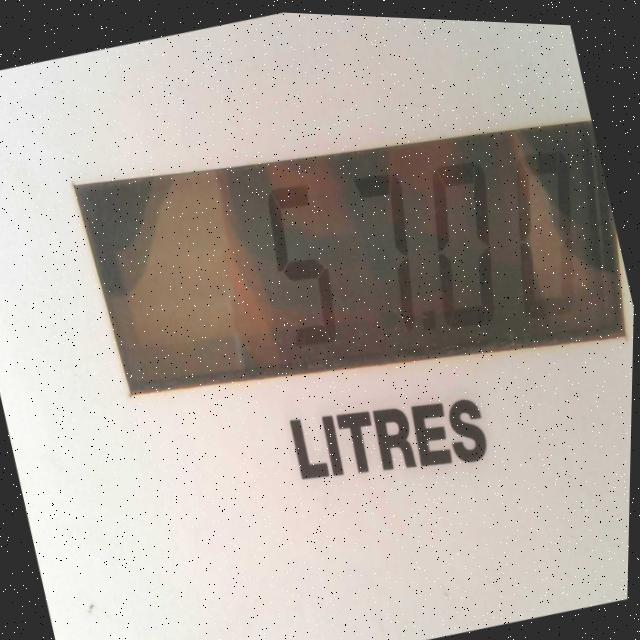.: (409, 281, 455, 358)
0: (485, 131, 619, 349), (406, 145, 526, 352)
5: (236, 150, 369, 364)
7: (334, 152, 444, 347)
